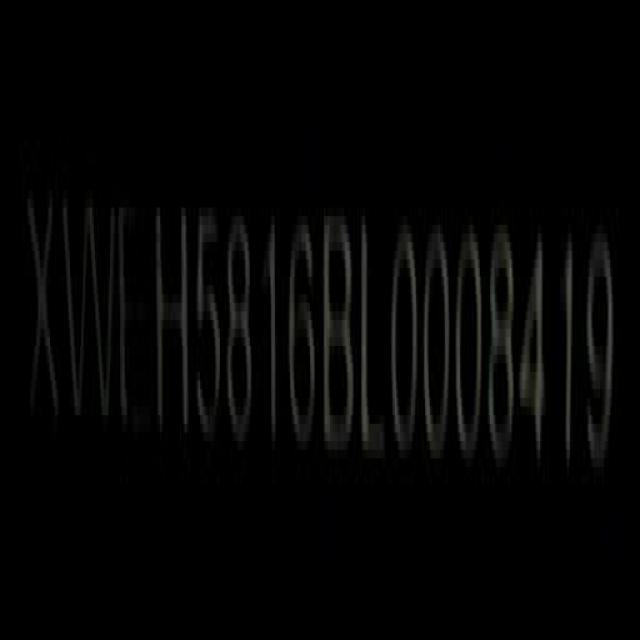0: (393, 223, 421, 461), (424, 222, 450, 464), (458, 221, 484, 462)
1: (263, 192, 282, 455), (557, 229, 575, 480)
4: (523, 228, 547, 478)
5: (196, 205, 223, 449)
6: (288, 224, 316, 452)
8: (490, 222, 517, 468), (226, 207, 252, 451)
9: (587, 230, 614, 473)
B: (324, 208, 353, 458)
E: (119, 192, 152, 465)
H: (156, 196, 187, 439)
L: (361, 218, 386, 462)
W: (64, 183, 114, 436)
X: (30, 185, 63, 442)
